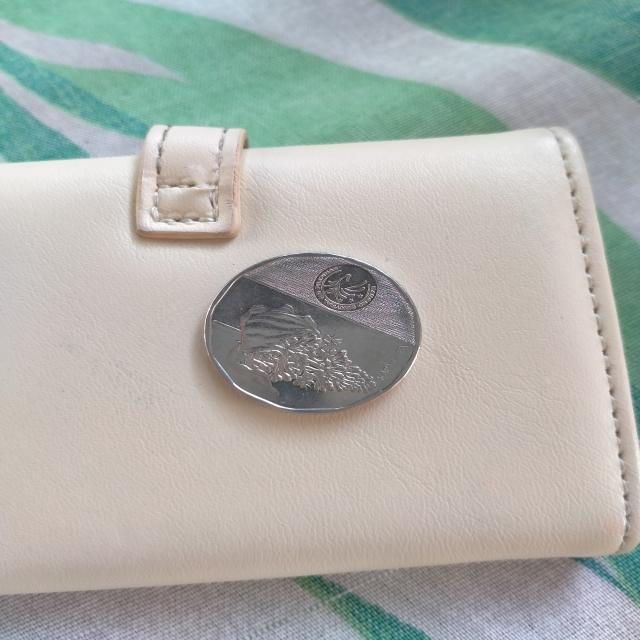10_New_Back: (204, 298, 383, 396)
